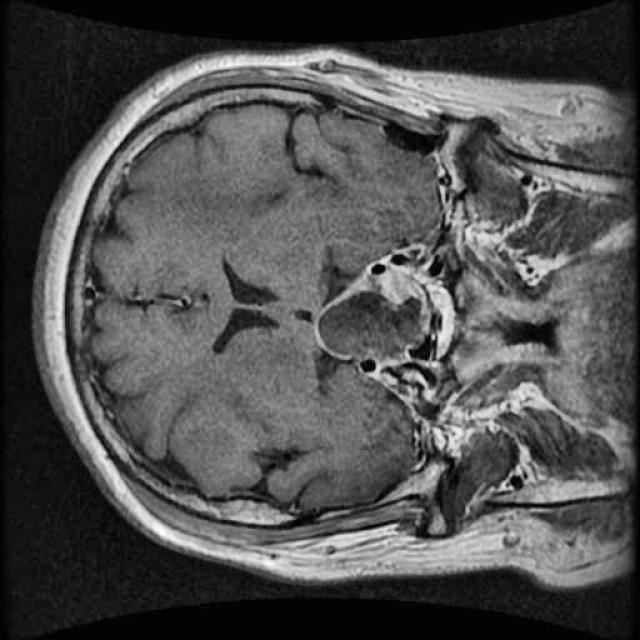Tumor: (310, 250, 440, 380)
